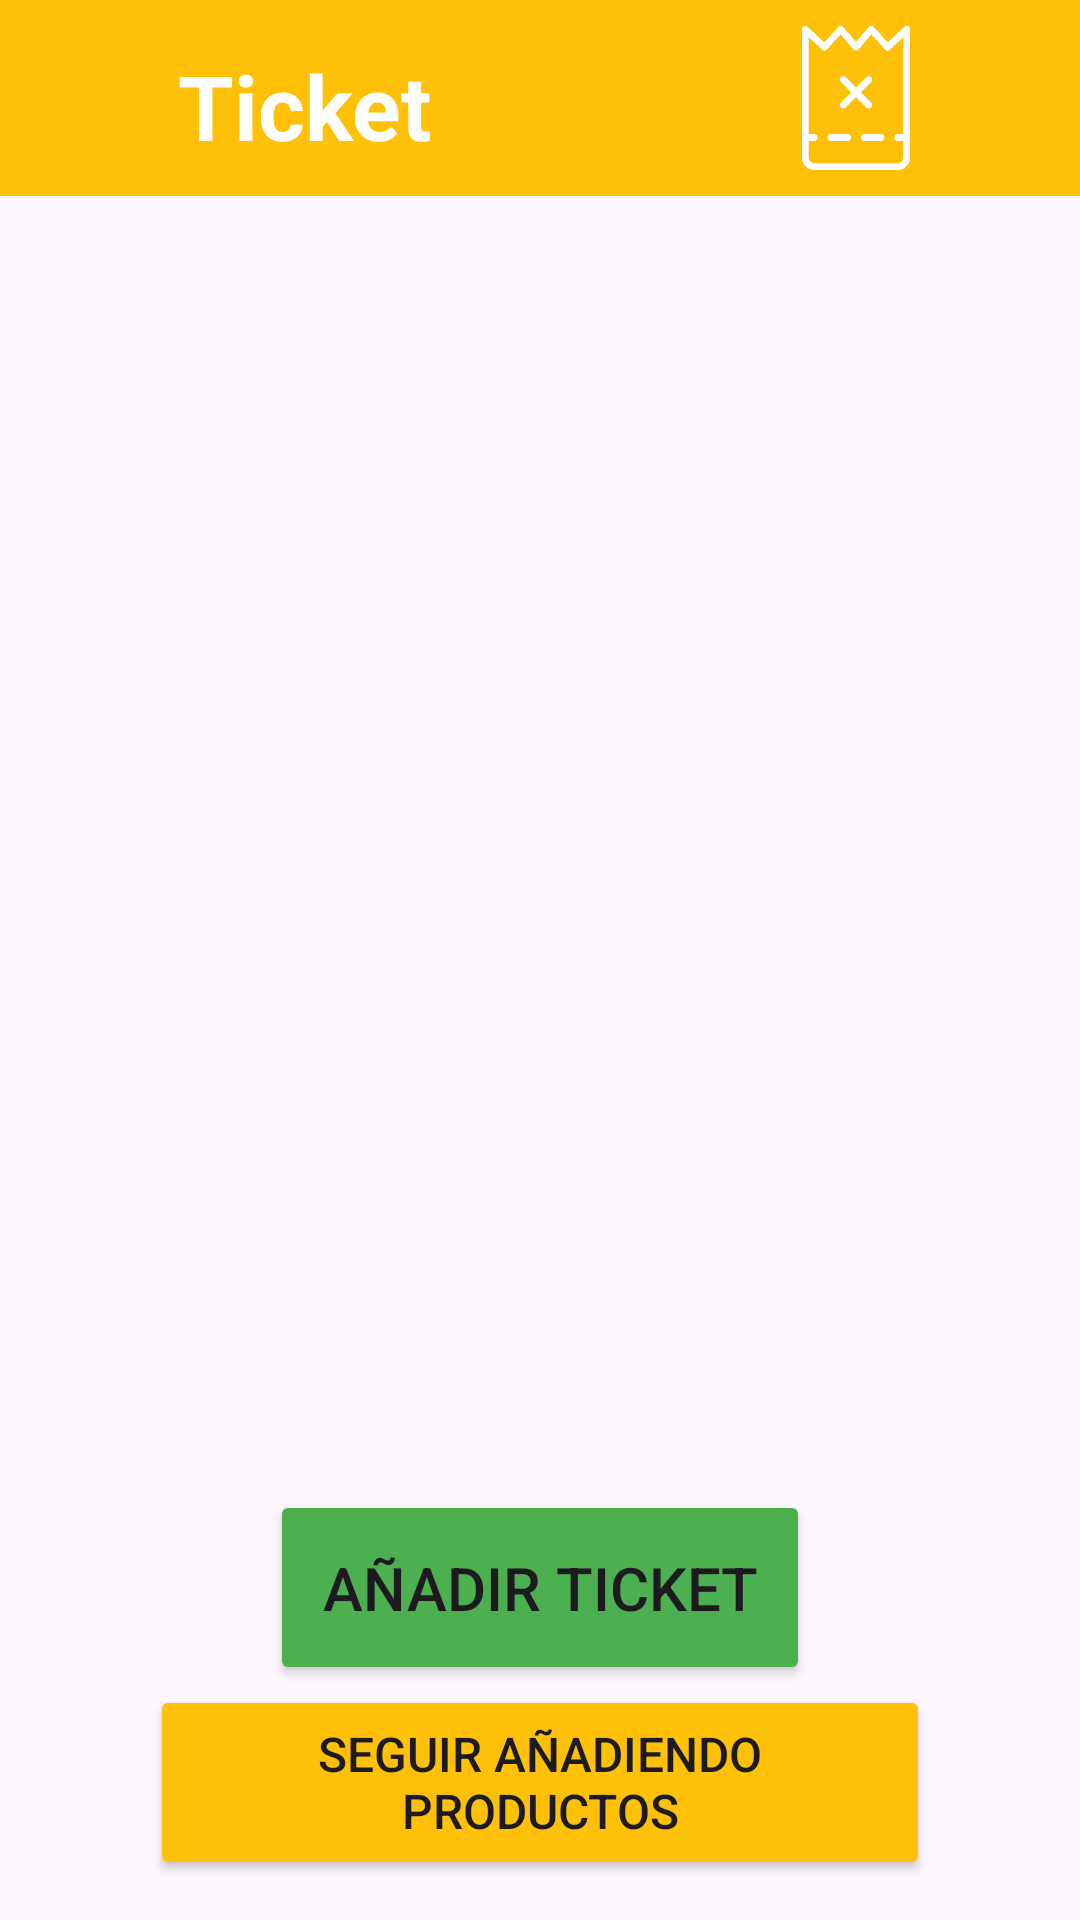

Icon click points for this 1080 x 1920 phone screenshot, format point (x, y):
boleto: point (856, 98)
